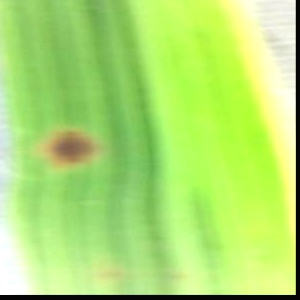Bacterial_Leaf_Blight: (30, 118, 111, 179)
